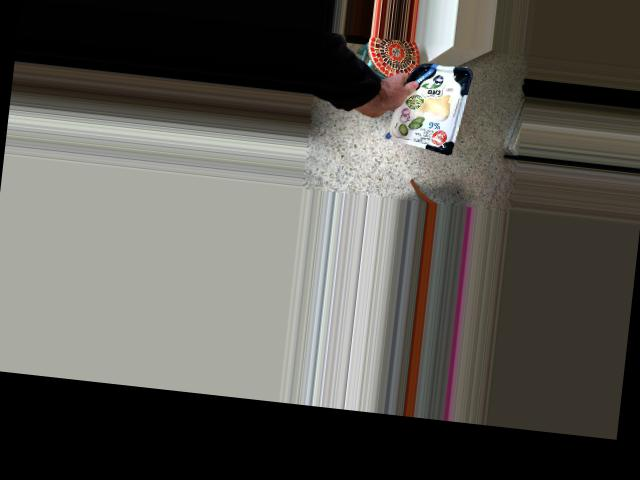cheese: (371, 74, 448, 151)
